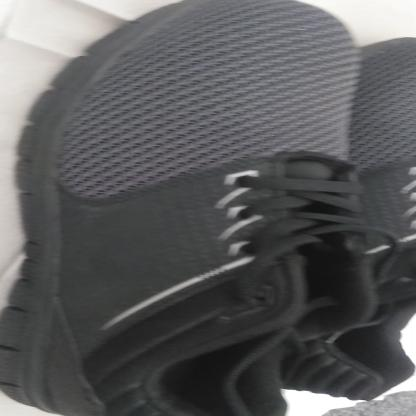safety-shoe: (6, 0, 416, 416)
